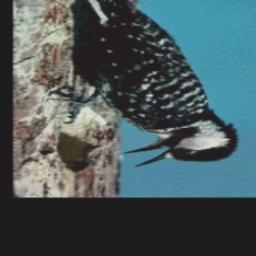Woodpecker: (46, 0, 248, 171)
